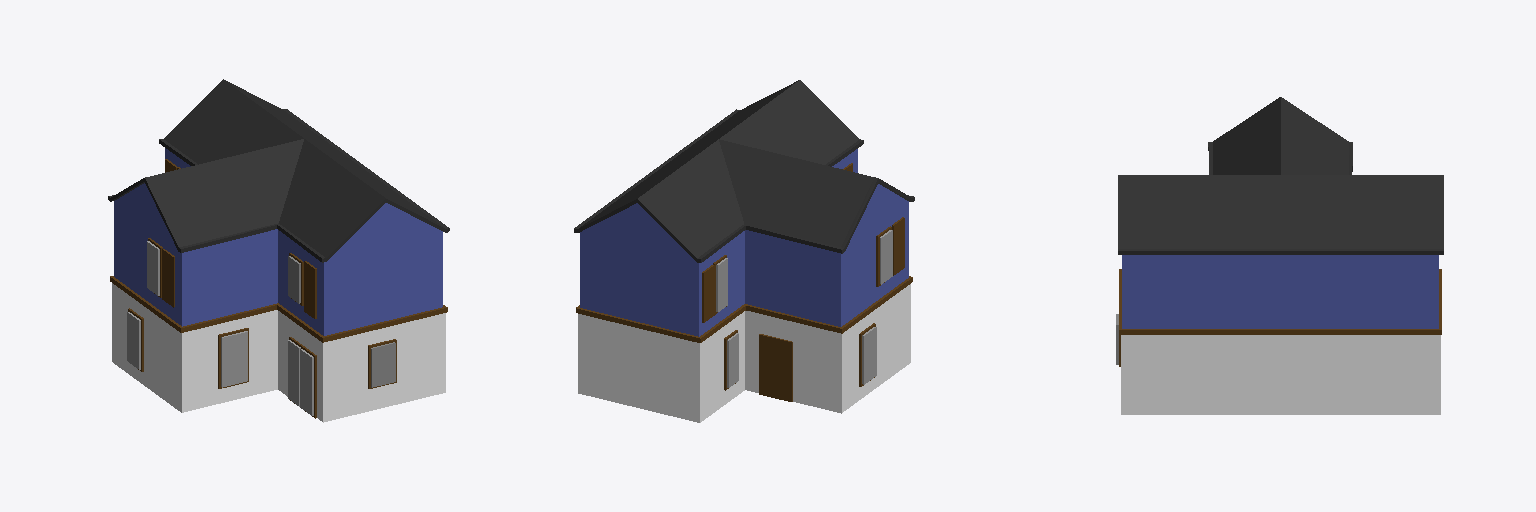
Rendered from detached_house_02b.obj.
The picture shows the model from 3 angles: view 1: azimuth 30°, elevation 25°; view 2: azimuth 150°, elevation 25°; view 3: azimuth 270°, elevation 25°; orthographic projection.
Visible parts, largest first — view 1: Box45; view 2: Box45; view 3: Box45.
Part boxes in pixels (bbox=[...]): Box45: bbox=[108, 79, 449, 422]; Box45: bbox=[574, 80, 914, 422]; Box45: bbox=[1116, 97, 1443, 414].
Bounding box in the file's own units: 11.69 × 10.45 × 14.72.